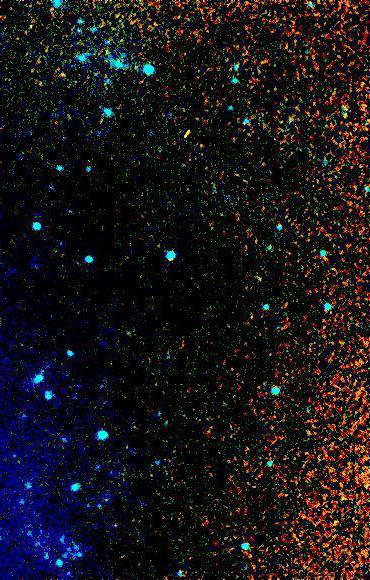star: (52, 55, 82, 85)
